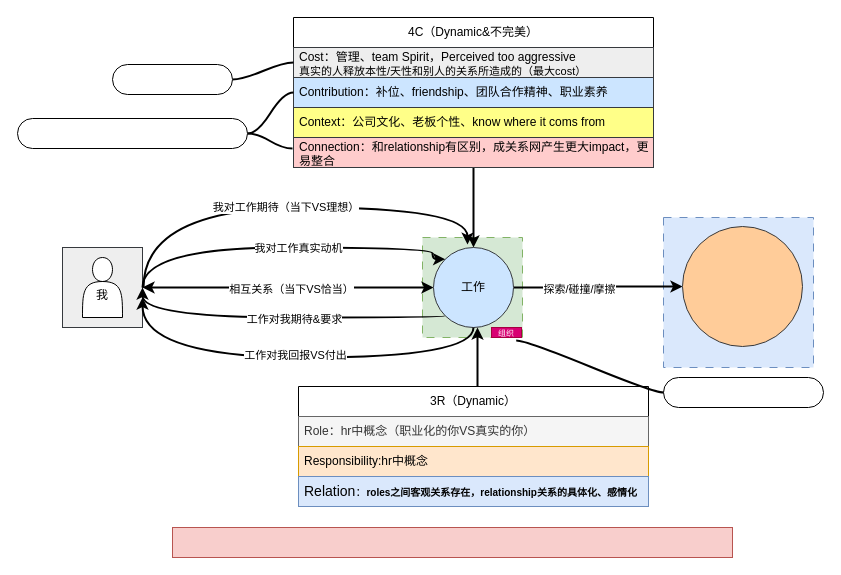
Image size: 841x575. Some labels were removed from this diagram. Each missing label, with the box of its shape:
Connection和Contribution几乎决定职场一切: (16, 118, 248, 148)
世界: (682, 226, 802, 346)
公司的 3R4C体现在：目标、战略、使命、愿景、文化、价值观，发展阶段和行业变迁等等: (172, 526, 732, 558)
前2C决定ROI: (112, 64, 232, 94)
组织脾性，fight against system: (662, 376, 824, 408)
